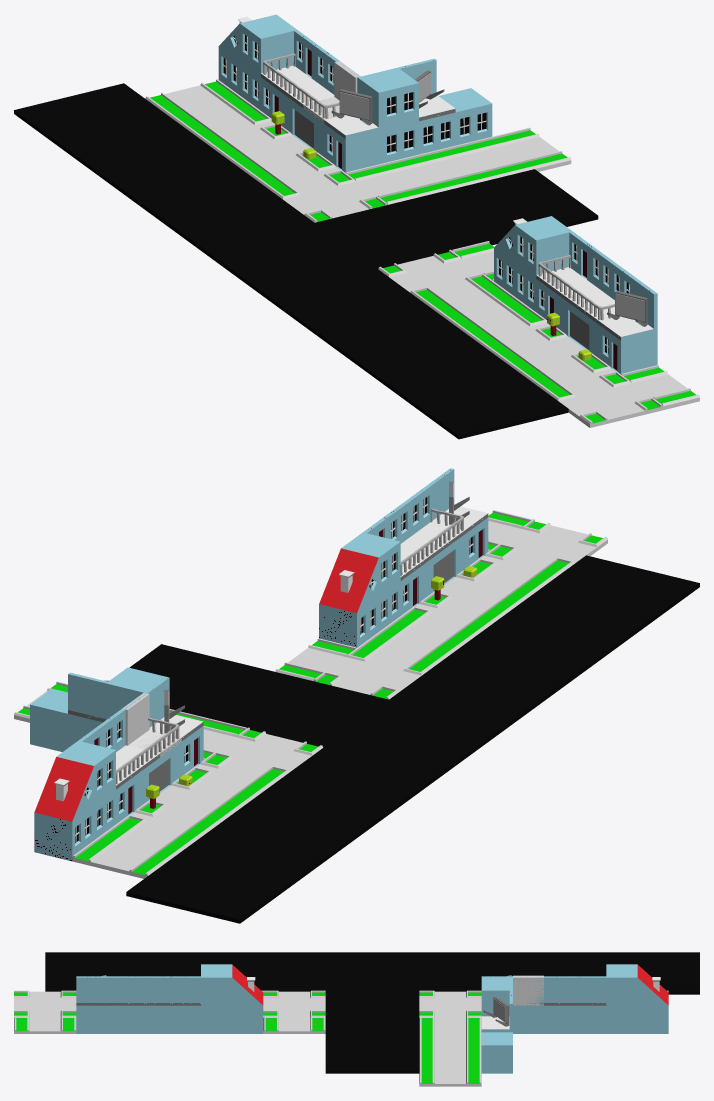
The model's file is Street.fbx.
The picture shows the model from 3 angles, top to bottom: view 1: azimuth 30°, elevation 25°; view 2: azimuth 150°, elevation 25°; view 3: azimuth 270°, elevation 25°; orthographic projection. The views are drawn at different scales.
Visible parts, largest first — view 1: Cube.098, Cube.045, Cube.043, Cube.099, Cube.042, Cube.044, Cube.050, Cube.060, Cube.046, Cube.015, Cube.069, Cube.108 (+55 smaller); view 2: Cube.045, Cube.044, Cube.043, Cube.099, Cube.050, Cube.042, Cube.098, Cube.060, Cube.046, Cube.020, Cube.075, Cube.018 (+45 smaller); view 3: Cube.046, Cube.060, Cube.042, Cube.050, Cube.043, Cube.098, Cube.045, Cube.044, Cube.099, Cube.015, Cube.069, Cube.113 (+54 smaller).
Boxes of the visible parts, x1=… form: Cube.098: x1=395, y1=362, x2=568, y2=439; Cube.045: x1=14, y1=83, x2=187, y2=160; Cube.043: x1=141, y1=176, x2=314, y2=252; Cube.099: x1=331, y1=316, x2=504, y2=392; Cube.042: x1=204, y1=223, x2=377, y2=299; Cube.044: x1=77, y1=130, x2=250, y2=206; Cube.050: x1=268, y1=269, x2=441, y2=345; Cube.060: x1=315, y1=196, x2=486, y2=268; Cube.046: x1=425, y1=169, x2=598, y2=245; Cube.015: x1=239, y1=14, x2=296, y2=76; Cube.069: x1=515, y1=216, x2=572, y2=278; Cube.108: x1=361, y1=67, x2=418, y2=130; Cube.045: x1=126, y1=844, x2=305, y2=923; Cube.044: x1=192, y1=796, x2=371, y2=875; Cube.043: x1=258, y1=748, x2=437, y2=827; Cube.099: x1=455, y1=603, x2=634, y2=682; Cube.050: x1=389, y1=651, x2=568, y2=730; Cube.042: x1=323, y1=699, x2=502, y2=778; Cube.098: x1=521, y1=555, x2=699, y2=634; Cube.060: x1=211, y1=672, x2=388, y2=747; Cube.046: x1=129, y1=644, x2=274, y2=718; Cube.020: x1=34, y1=757, x2=94, y2=821; Cube.075: x1=319, y1=548, x2=378, y2=613; Cube.018: x1=34, y1=806, x2=94, y2=861; Cube.046: x1=325, y1=1031, x2=419, y2=1073; Cube.060: x1=325, y1=991, x2=419, y2=1031; Cube.042: x1=325, y1=952, x2=419, y2=991; Cube.050: x1=232, y1=952, x2=325, y2=991; Cube.043: x1=419, y1=952, x2=512, y2=991; Cube.098: x1=45, y1=952, x2=138, y2=991; Cube.045: x1=606, y1=952, x2=699, y2=994; Cube.044: x1=513, y1=952, x2=606, y2=976; Cube.099: x1=138, y1=952, x2=232, y2=976; Cube.015: x1=606, y1=964, x2=637, y2=1005; Cube.069: x1=201, y1=964, x2=232, y2=1005; Cube.113: x1=481, y1=1032, x2=512, y2=1073.
Bounding box in the file's own units: 2000 × 400 × 4400.
